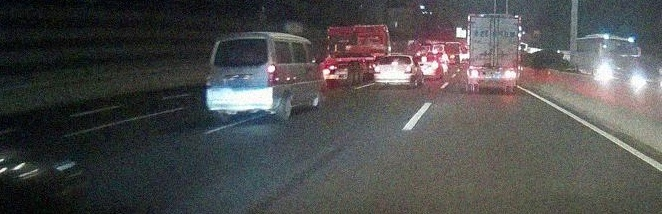L_light: (207, 64, 216, 87), (470, 70, 479, 77), (374, 66, 381, 74)
R_light: (267, 64, 278, 86), (506, 70, 516, 78), (405, 66, 412, 74)
T_light: (234, 38, 247, 42), (489, 15, 499, 18), (391, 62, 398, 65)
night-brake: (374, 55, 414, 89)
night-no: (467, 13, 522, 93)
night-right: (206, 31, 279, 123)
